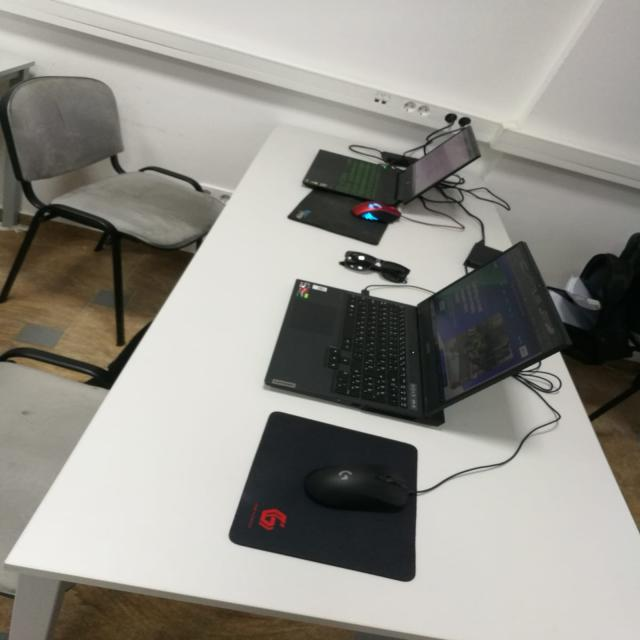Laptops_bbox: (256, 106, 600, 474)
